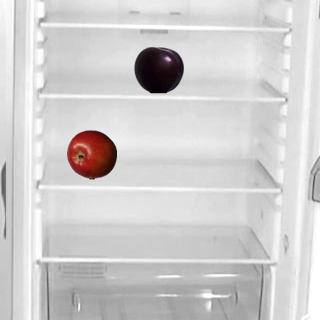Apple Braeburn: (66, 129, 116, 179)
Cherry Wax Black: (133, 44, 183, 94)
